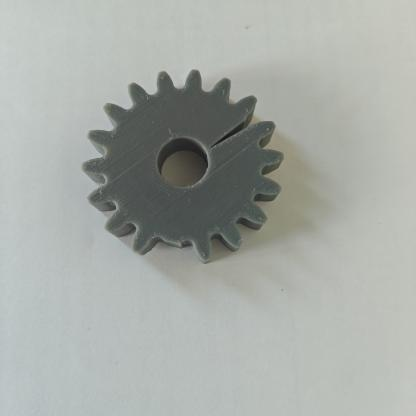defect: (115, 212, 234, 291), (192, 96, 292, 180)
gear: (83, 58, 300, 298)
